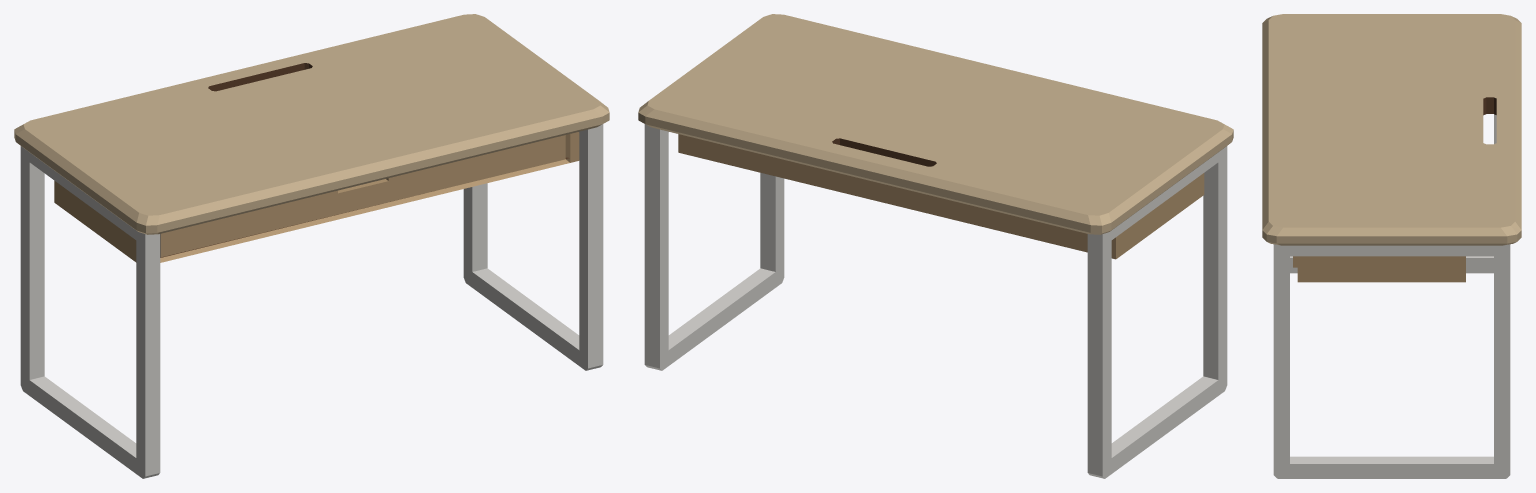
Rendered from home_desk.glb.
The picture shows the model from 3 angles, left to right: view 1: azimuth 30°, elevation 25°; view 2: azimuth 150°, elevation 25°; view 3: azimuth 270°, elevation 25°; orthographic projection. The views are drawn at different scales.
Visible parts, largest first — view 1: office-desk, drawer; view 2: office-desk; view 3: office-desk.
Part boxes in pixels (x1,y1,x2,y2): office-desk: (14, 14, 609, 478); drawer: (160, 135, 565, 257); office-desk: (638, 14, 1233, 478); office-desk: (1262, 14, 1521, 478).
Size of the model in its own units: 1.4 by 0.75 by 0.7001.
